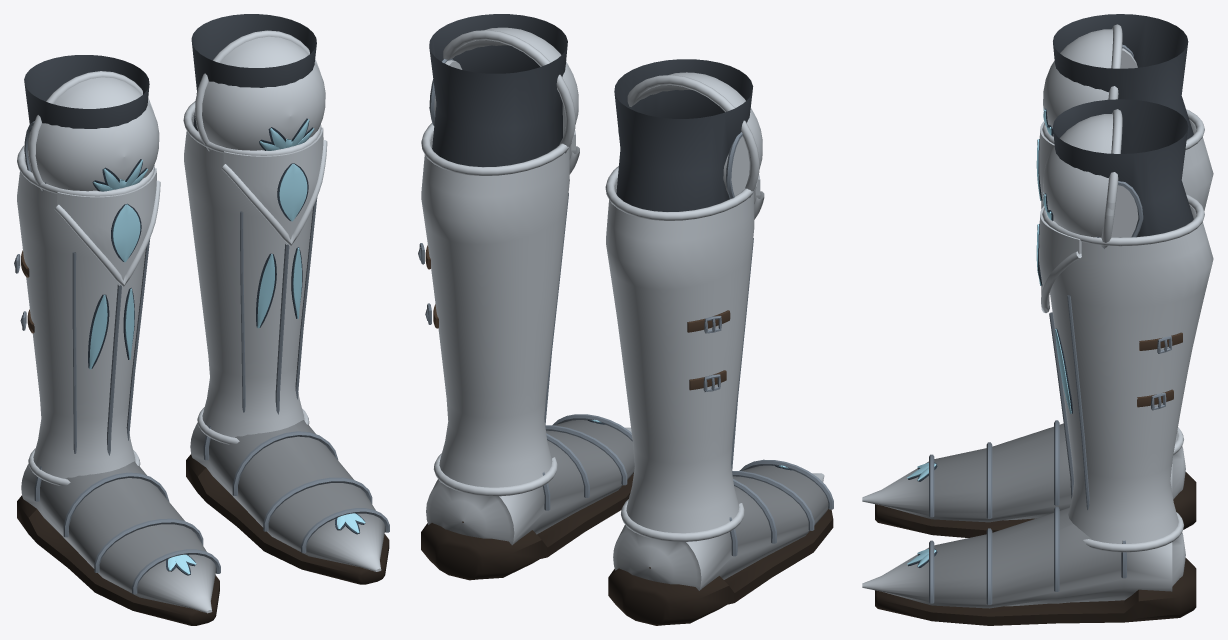
Rendered from f_mithril_f.glb.
3 views of the same model, side by side, from view 1: azimuth 30°, elevation 25°; view 2: azimuth 150°, elevation 25°; view 3: azimuth 270°, elevation 25° (orthographic). The views are drawn at different scales.
Visible parts, largest first — view 1: LegR_Boot, LegL_Boot, LegL_BootFoot, LegR_BootFoot; view 2: LegL_Boot, LegR_Boot, LegR_BootFoot, LegL_BootFoot; view 3: LegL_Boot, LegL_BootFoot, LegR_BootFoot, LegR_Boot.
Part boxes in pixels (left/top/right/bottom): LegR_Boot: left=14, top=55, right=160, bottom=485; LegL_Boot: left=183, top=14, right=327, bottom=444; LegL_BootFoot: left=186, top=420, right=389, bottom=584; LegR_BootFoot: left=17, top=461, right=220, bottom=625; LegL_Boot: left=418, top=14, right=579, bottom=496; LegR_Boot: left=605, top=59, right=764, bottom=541; LegR_BootFoot: left=608, top=459, right=833, bottom=625; LegL_BootFoot: left=421, top=414, right=634, bottom=580; LegL_Boot: left=1036, top=99, right=1213, bottom=552; LegL_BootFoot: left=862, top=506, right=1196, bottom=625; LegR_BootFoot: left=862, top=420, right=1196, bottom=537; LegR_Boot: left=1036, top=14, right=1213, bottom=454.
Bounding box in the file's own units: 0.3715 × 0.5656 × 0.3692.
